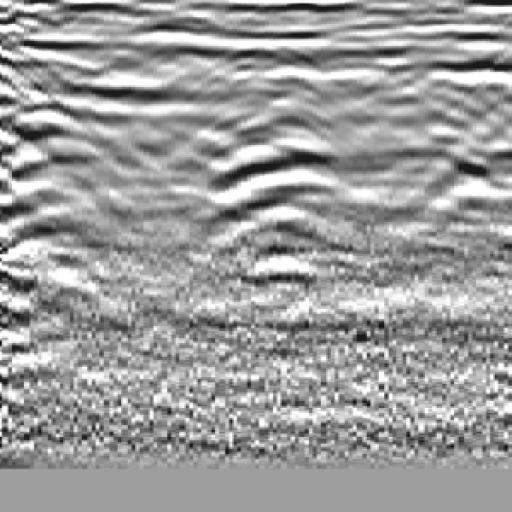metalic: (176, 121, 363, 305)
nonmetalic: (1, 38, 82, 291)
